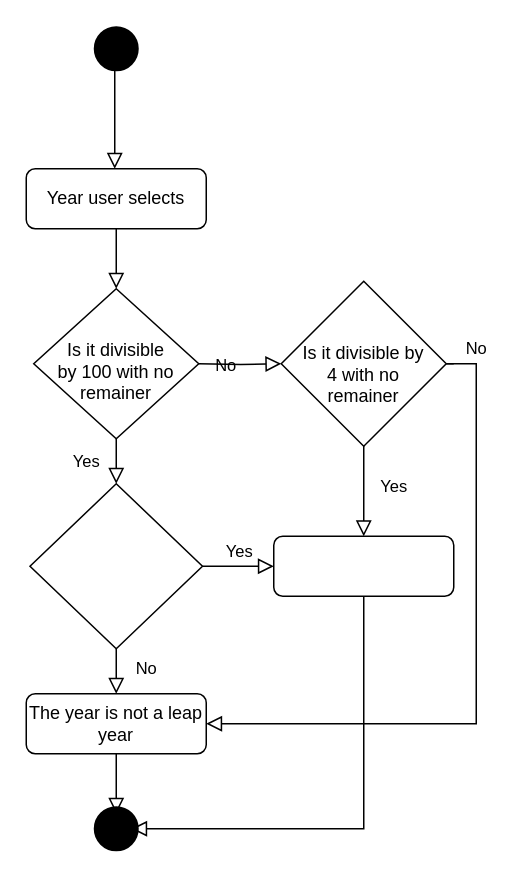
Some shapes in this 518 by 876 pixel diagram are drawn without their labels. Here are the shapes that lost their labels. From the top down, the centre of each, then its label:
At (x=115, y=565): "Is it divisibly by 400 with no remainer".
At (x=363, y=565): "The year is a leap year".
